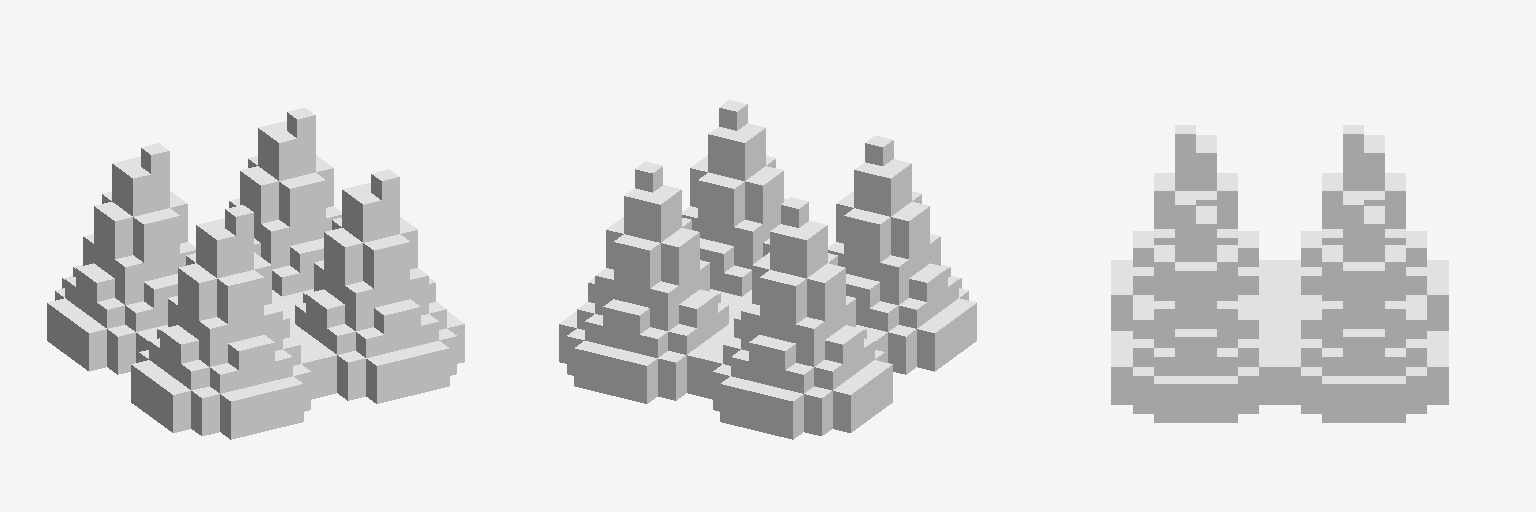
The model's file is Needle.obj.
The picture shows the model from 3 angles: view 1: azimuth 30°, elevation 25°; view 2: azimuth 150°, elevation 25°; view 3: azimuth 270°, elevation 25°; orthographic projection.
Parts seen in each view (by area): view 1: object 1; view 2: object 1; view 3: object 1.
Boxes of the visible parts, x1,y1,x2,y2 form: object 1: [47, 108, 464, 439]; object 1: [559, 100, 976, 439]; object 1: [1111, 125, 1448, 422].
Size of the model in its own units: 1.6 by 1 by 1.6.